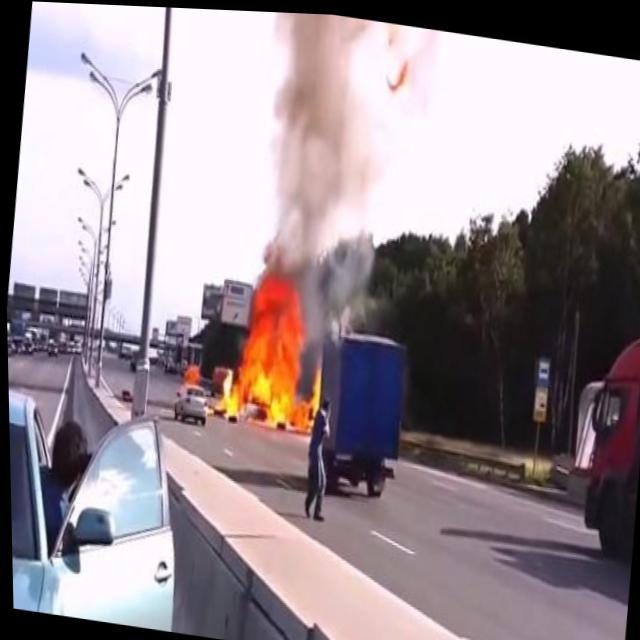fire: (214, 248, 335, 433)
